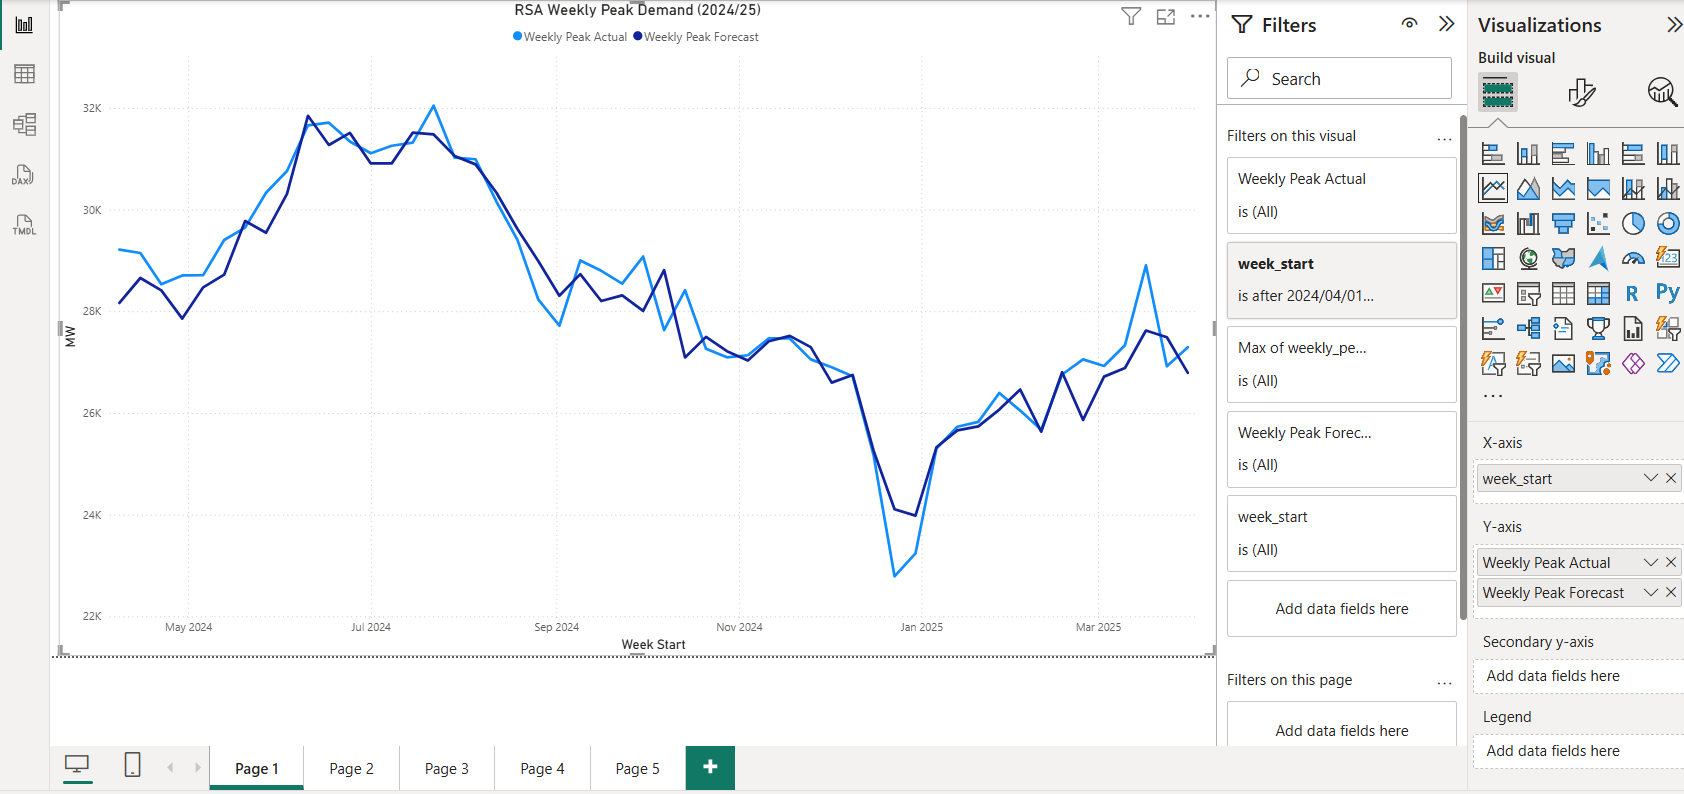

The page's visual inventory and layout, read from the dashboard file:
{"tool":"powerbi","page":{"name":"Page 1","canvas":[1280,720],"ordinal":0},"visuals":[{"type":"lineChart","title":"RSA Weekly Peak Demand (2024/25)","fields":{"Y":["Max(public vw_power_bi_weekly.weekly_peak_actual)","Max(public vw_power_bi_weekly.weekly_peak_forecast)"],"Category":["public vw_power_bi_weekly.week_start"]},"box":[9.6,0,1270.7,720.4],"z":0}]}

Visuals, with their boxes on the page's 1280x720 design canvas (x1, y1, x2, y2). These are canvas units, not pixel positions in the 1684x794 screenshot, which may show the page scaled, cropped or inside an application window:
"RSA Weekly Peak Demand (2024/25)" lineChart: crop(10, 0, 1280, 720)
